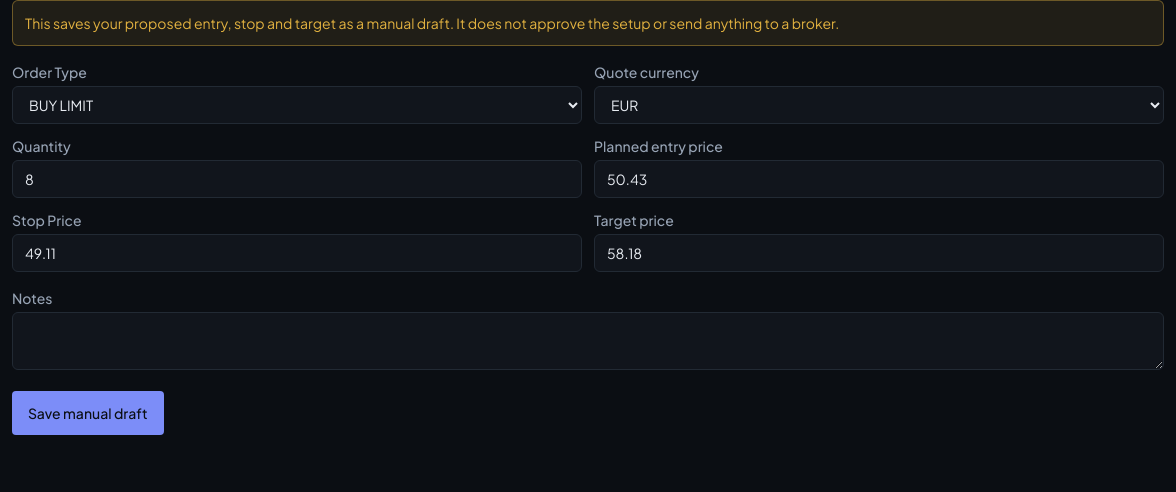
Test: manual order drafts › preserves edited values when saving fails
The image size is (1176, 492).
Replace the text in the number field labelled "Planned entry price" with "50.6" at (879,179), box [594, 160, 1164, 198]
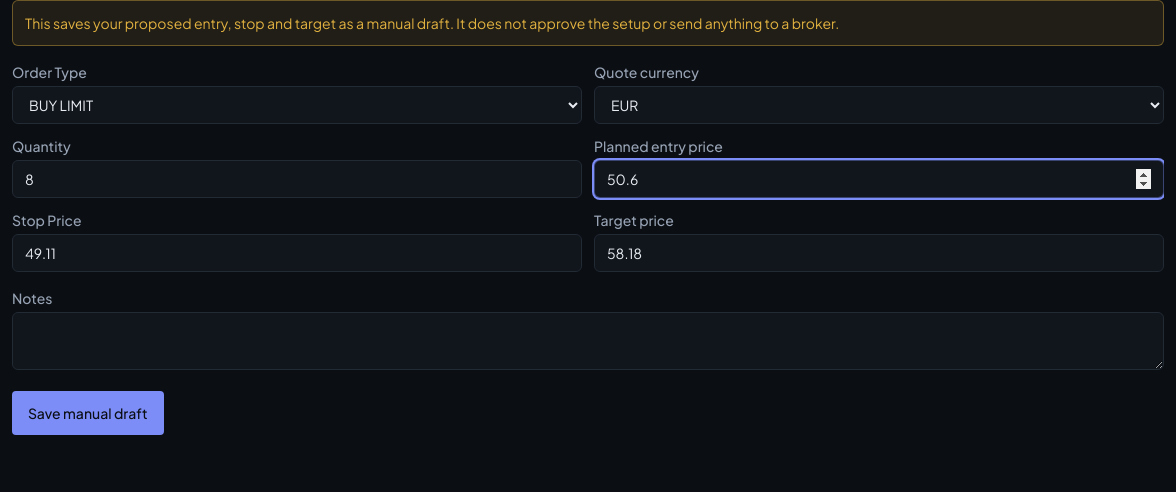
Click the button "Save manual draft".
click(88, 413)  # box [12, 391, 164, 435]
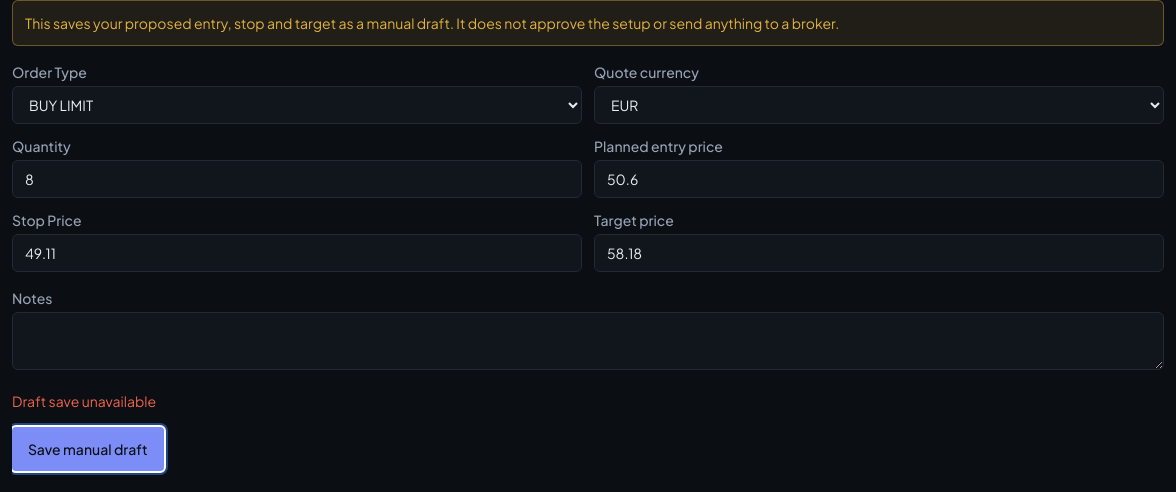
Expected: the button "Save manual draft" is enabled, [12, 427, 164, 471]
Now the message reads "Draft save unavailable", box [12, 392, 156, 410]
